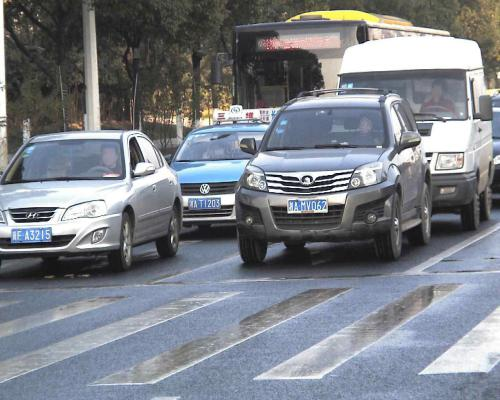Carplate: (9, 224, 57, 246), (286, 195, 330, 218), (186, 194, 223, 215)
